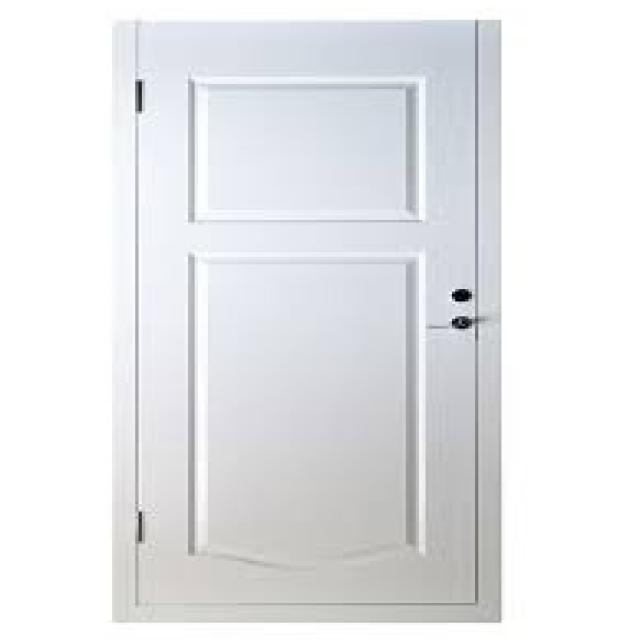door: (117, 20, 500, 622)
